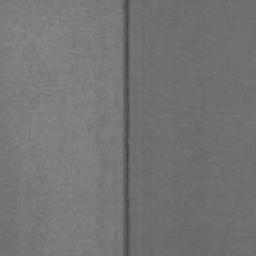Welding line: (122, 0, 131, 256)
